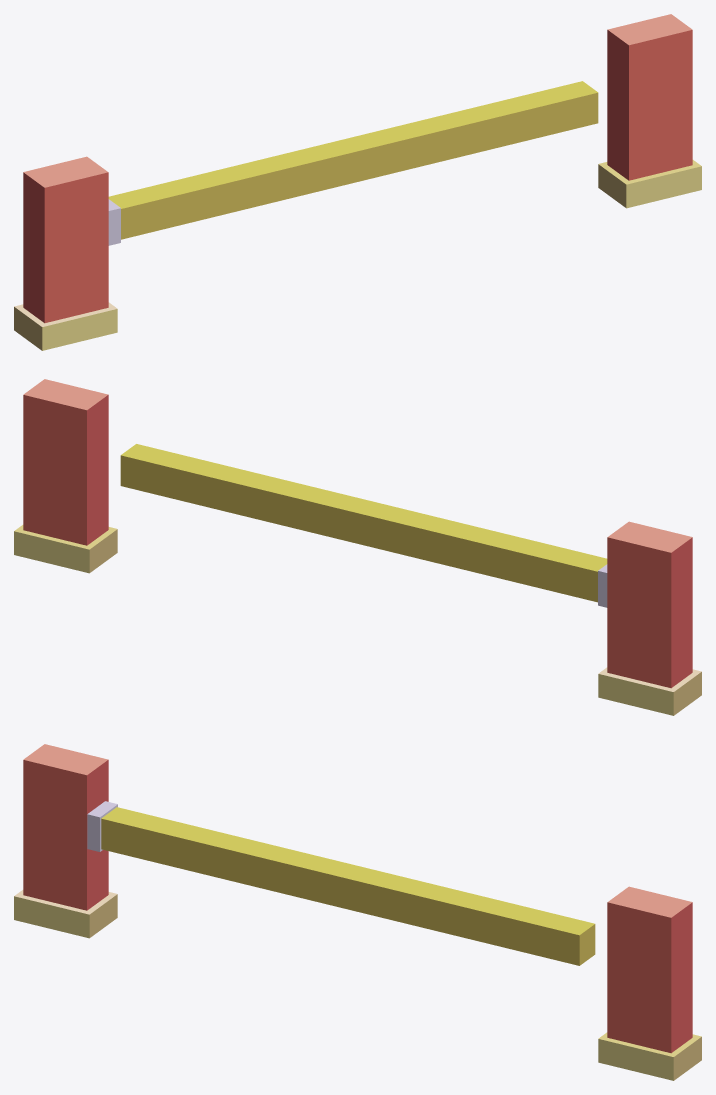
The model's file is exit_seal.fbx.
The picture shows the model from 3 angles, top to bottom: view 1: azimuth 30°, elevation 25°; view 2: azimuth 150°, elevation 25°; view 3: azimuth 330°, elevation 25°; orthographic projection.
Parts seen in each view (by area): view 1: Exit Seal, Exit Seal2; view 2: Exit Seal, Exit Seal2; view 3: Exit Seal, Exit Seal2.
Part boxes in pixels (x1,y1,x2,y2): Exit Seal: (14, 14, 701, 350); Exit Seal2: (108, 81, 598, 245); Exit Seal: (14, 379, 701, 715); Exit Seal2: (120, 444, 607, 607); Exit Seal: (14, 744, 701, 1080); Exit Seal2: (87, 801, 595, 965).
Size of the model in its own units: 339 by 78.27 by 25.17.
